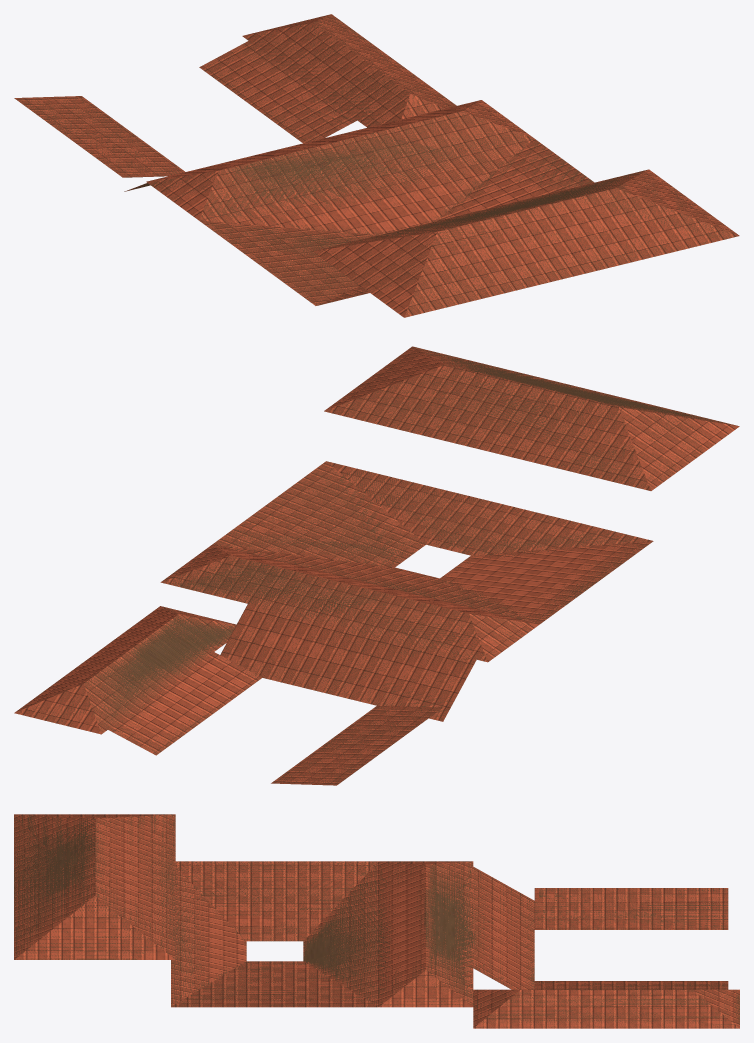
File: pompeii_house_roofs.glb
3 renders of one model, top to bottom at view 1: azimuth 30°, elevation 25°; view 2: azimuth 150°, elevation 25°; view 3: azimuth 270°, elevation 25°, orthographic. The views are drawn at different scales.
Visible parts, largest first — view 1: Roof_front, Roof_atrium, Roof_tablinum, Roof_portico, Roof_triclinium; view 2: Roof_atrium, Roof_front, Roof_portico, Roof_tablinum, Roof_triclinium; view 3: Roof_atrium, Roof_front, Roof_portico, Roof_tablinum, Roof_triclinium.
Boxes of the visible parts, bbox=[...] form: Roof_front: bbox=[313, 169, 739, 317]; Roof_atrium: bbox=[199, 138, 594, 305]; Roof_tablinum: bbox=[146, 100, 534, 220]; Roof_portico: bbox=[14, 41, 356, 191]; Roof_triclinium: bbox=[242, 14, 456, 127]; Roof_atrium: bbox=[212, 461, 653, 624]; Roof_front: bbox=[324, 346, 739, 490]; Roof_portico: bbox=[108, 604, 476, 785]; Roof_tablinum: bbox=[160, 544, 539, 662]; Roof_triclinium: bbox=[14, 606, 236, 734]; Roof_atrium: bbox=[171, 861, 378, 1007]; Roof_front: bbox=[14, 814, 175, 959]; Roof_portico: bbox=[473, 867, 728, 989]; Roof_tablinum: bbox=[378, 861, 473, 1007]; Roof_triclinium: bbox=[473, 989, 739, 1028].
Size of the model in its own units: 14.6 by 5.2 by 30.75.
Materials: 2 (2 with a texture image).
